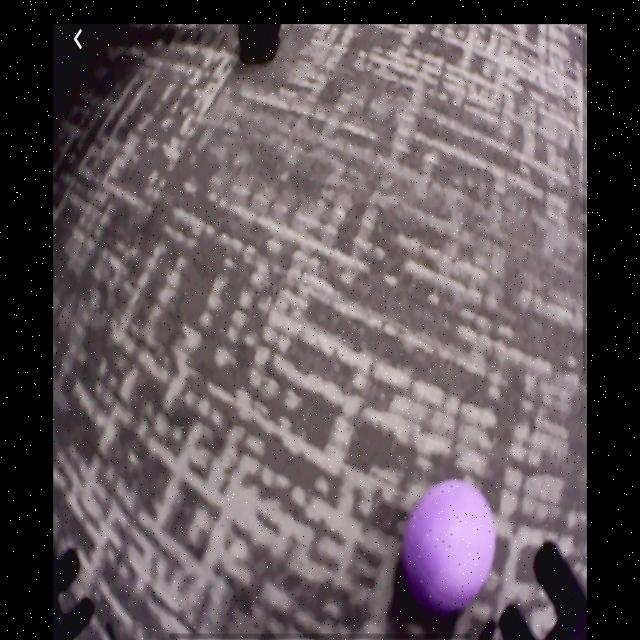ball: (404, 479, 497, 610)
